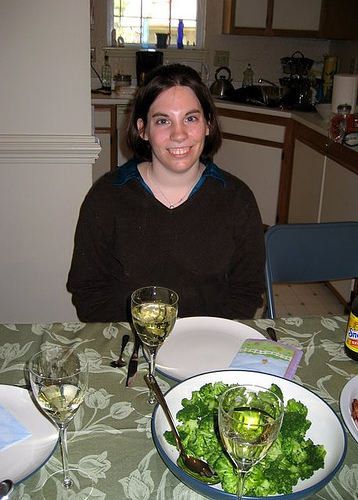broccoli: (295, 436, 327, 481), (284, 395, 309, 436), (265, 458, 295, 491)
